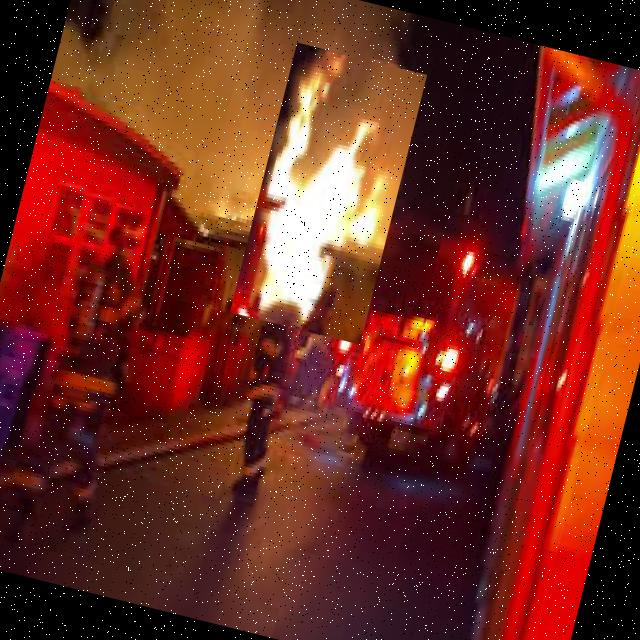fire: (229, 42, 426, 344)
